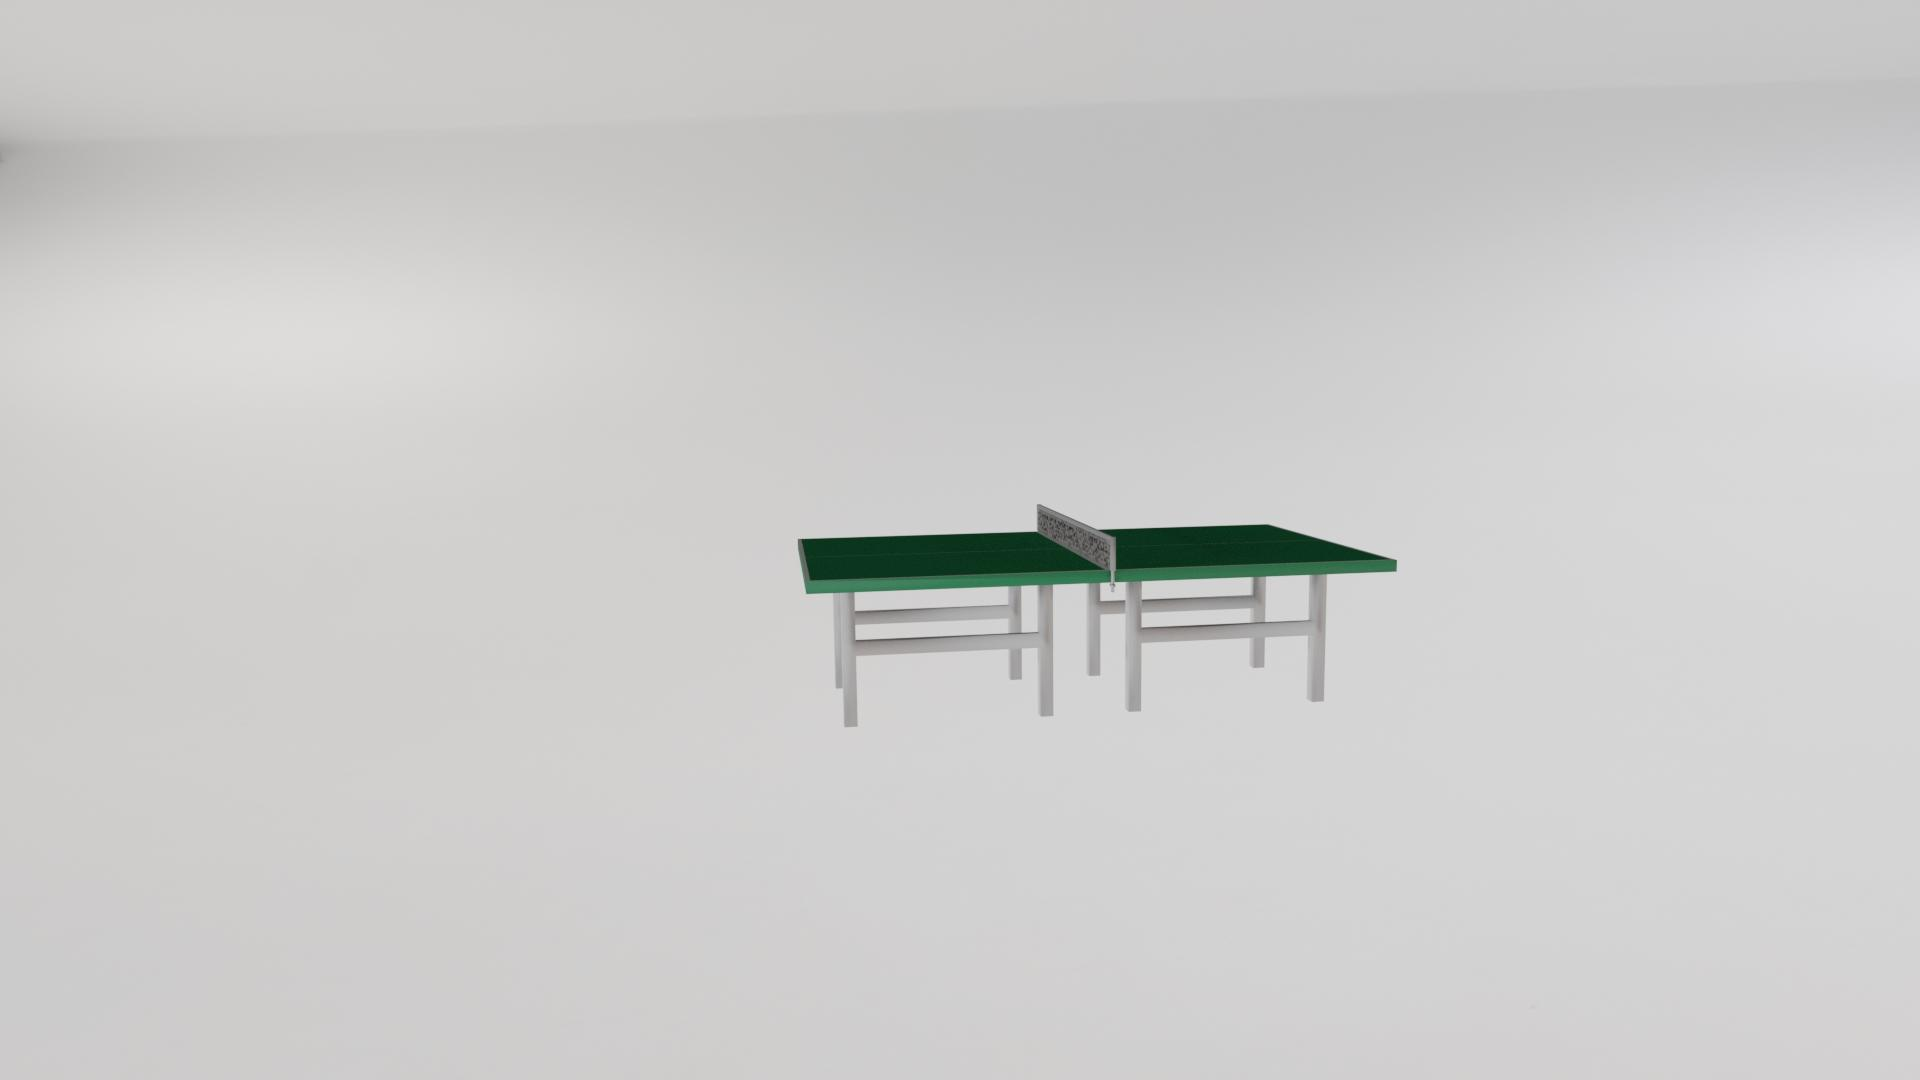table: (802, 525, 1391, 580)
